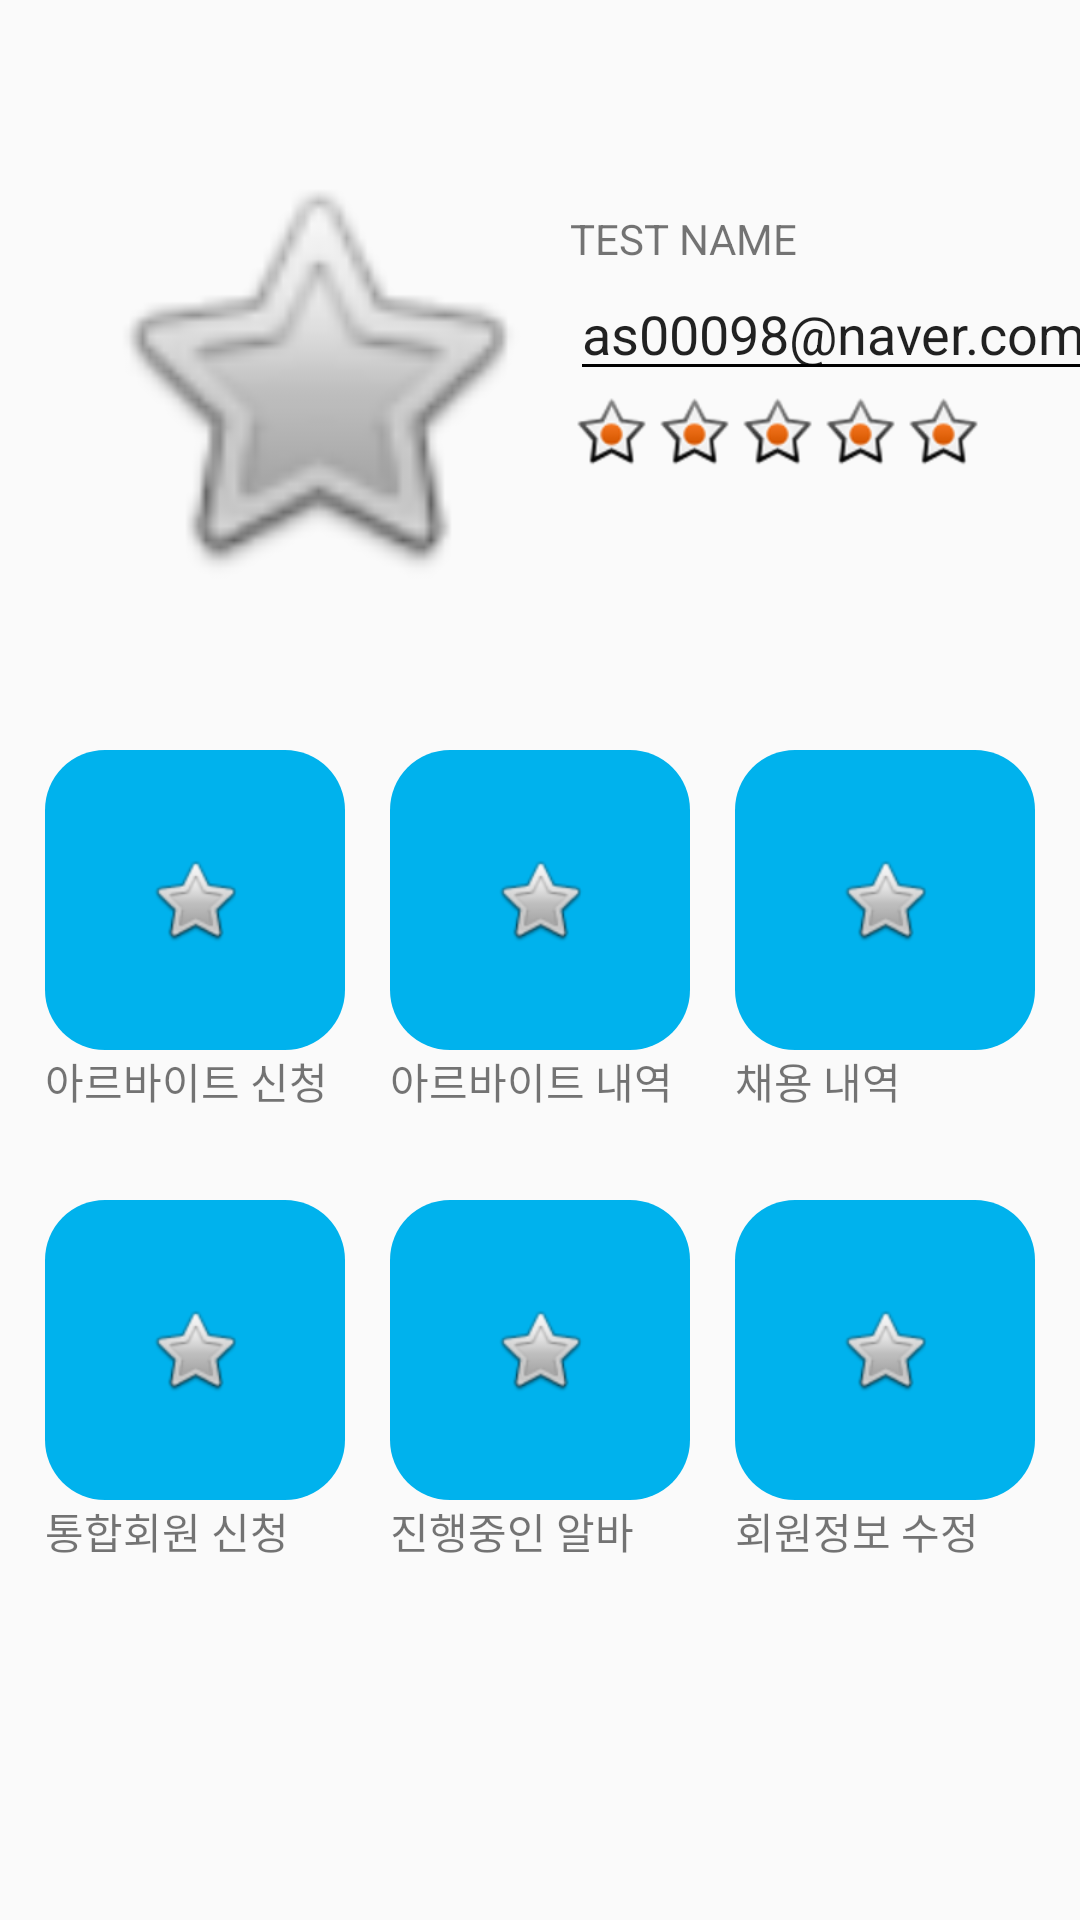

Locate icon controls on the screen. Image size 1080 × 1920, boxes as {"left": x1, "top": y1, "right": x2, "bottom": y2}.
star on: {"left": 577, "top": 399, "right": 646, "bottom": 464}, {"left": 660, "top": 399, "right": 729, "bottom": 464}, {"left": 743, "top": 399, "right": 812, "bottom": 464}, {"left": 826, "top": 399, "right": 895, "bottom": 464}, {"left": 909, "top": 399, "right": 978, "bottom": 464}
